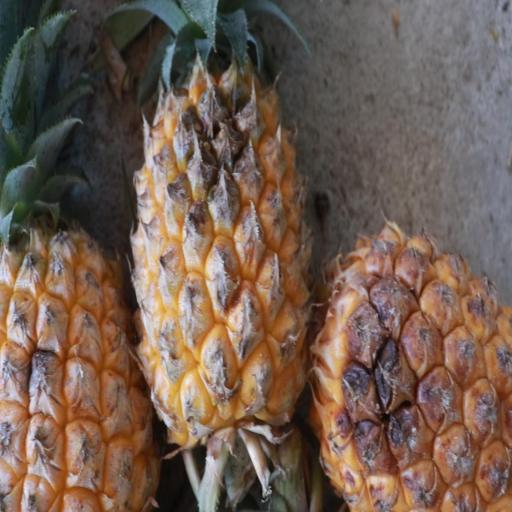Pineapple - v8 v1: (123, 0, 318, 460), (1, 0, 164, 512), (309, 220, 511, 512)
